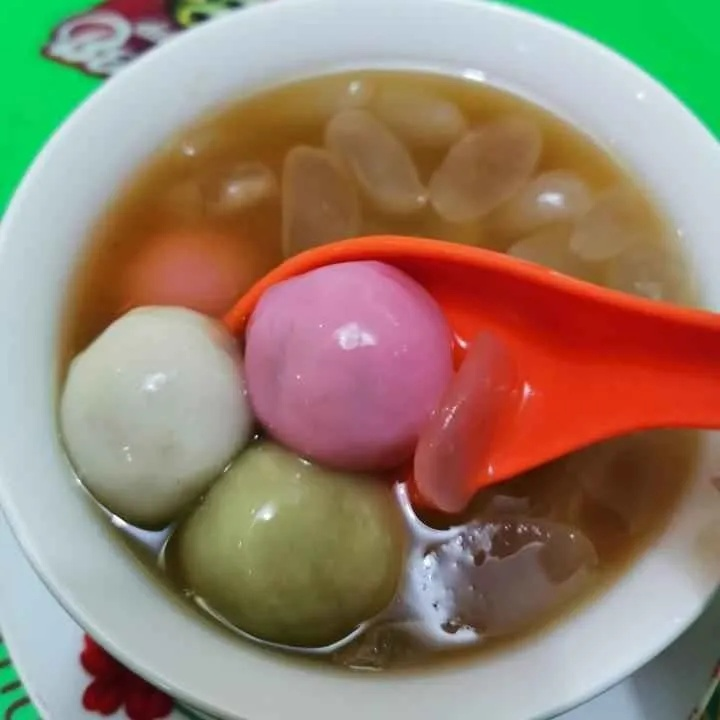ronde: (56, 95, 687, 656)
